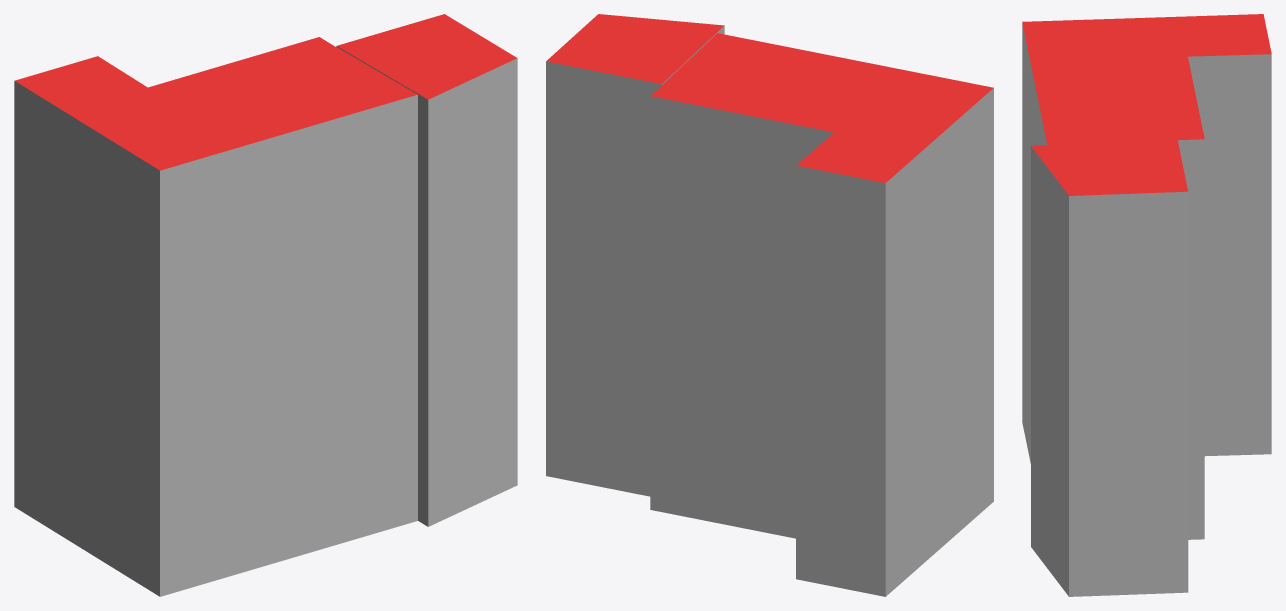
File: DEBE3D04YY50000Cec.dae
The picture shows the model from 3 angles, left to right: view 1: azimuth 30°, elevation 25°; view 2: azimuth 150°, elevation 25°; view 3: azimuth 270°, elevation 25°; orthographic projection. The views are drawn at different scales.
Size of the model in its own units: 23.96 by 13.82 by 24.49.
